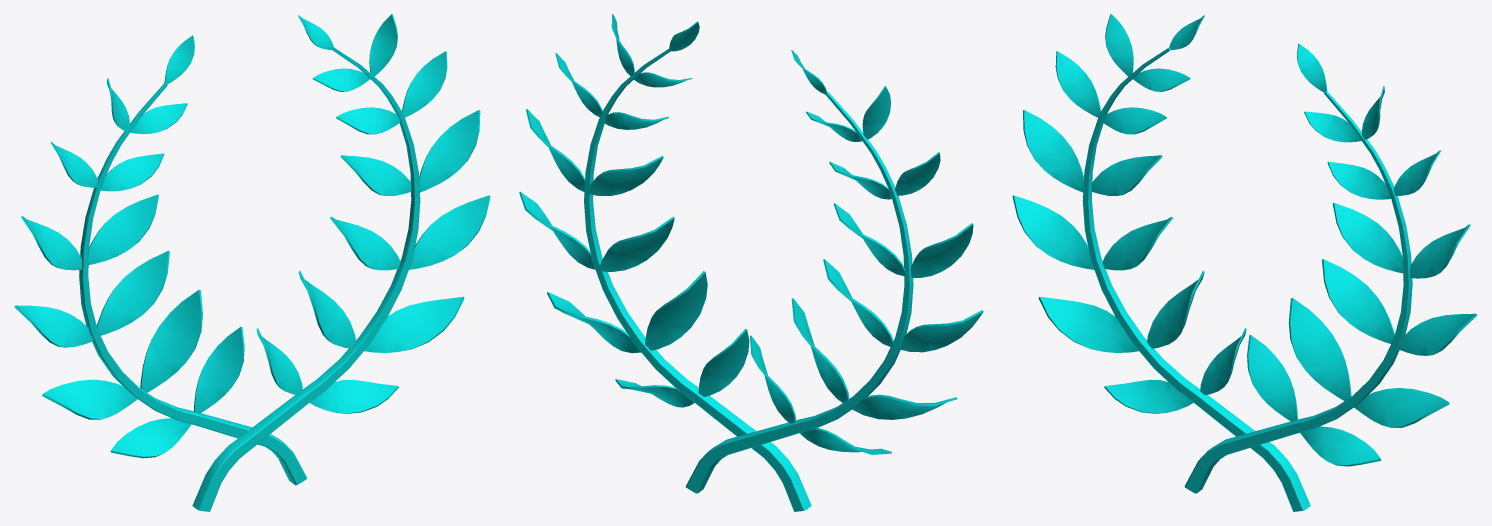
File: CouronneLeaf_01.fbx
The picture shows the model from 3 angles, left to right: view 1: azimuth 30°, elevation 25°; view 2: azimuth 150°, elevation 25°; view 3: azimuth 330°, elevation 25°; orthographic projection.
Parts seen in each view (by area): view 1: CouronneLeaf_01; view 2: CouronneLeaf_01; view 3: CouronneLeaf_01.
Part boxes in pixels (left/top/right/bottom): CouronneLeaf_01: left=14, top=14, right=490, bottom=511; CouronneLeaf_01: left=519, top=14, right=983, bottom=511; CouronneLeaf_01: left=1012, top=14, right=1477, bottom=511.
Bounding box in the file's own units: 82.89 × 78.77 × 8.08.
